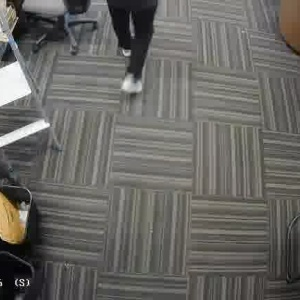person: (104, 0, 161, 93)
